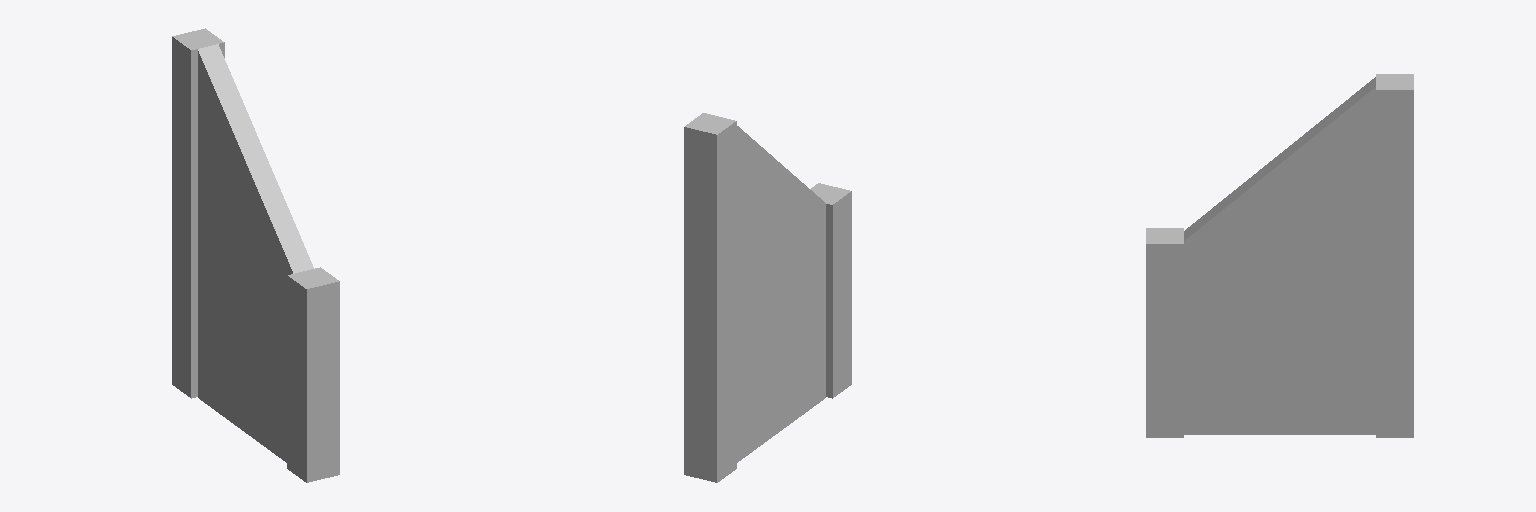
File: dungeon_wall_low.obj
The picture shows the model from 3 angles: view 1: azimuth 30°, elevation 25°; view 2: azimuth 150°, elevation 25°; view 3: azimuth 270°, elevation 25°; orthographic projection.
Parts seen in each view (by area): view 1: wall, pillar; view 2: pillar, wall; view 3: wall, pillar.
Part boxes in pixels (bbox=[...]): wall: bbox=[198, 44, 313, 462]; pillar: bbox=[172, 28, 339, 482]; pillar: bbox=[684, 113, 851, 482]; wall: bbox=[737, 126, 825, 462]; wall: bbox=[1184, 77, 1375, 434]; pillar: bbox=[1146, 74, 1413, 437].
Size of the model in its own units: 1 by 10.02 by 7.